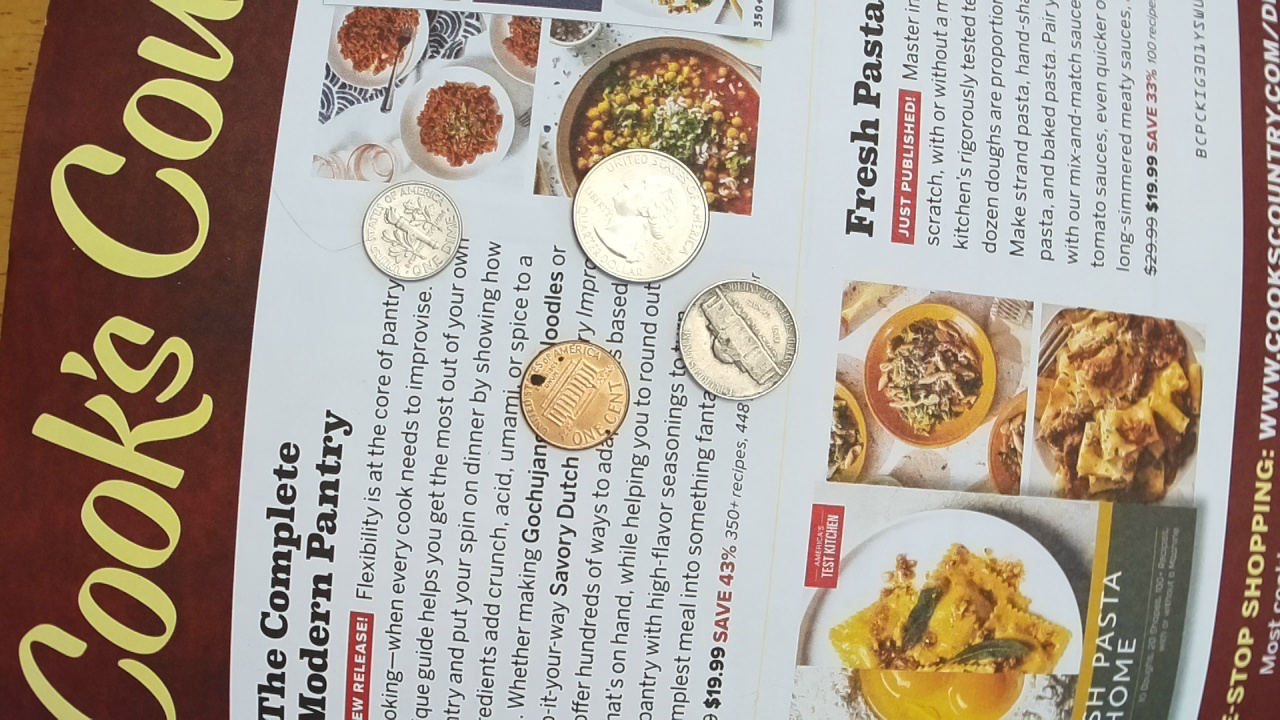dime: (358, 178, 464, 284)
nickel: (674, 278, 800, 402)
penny: (516, 338, 632, 452)
quarter: (570, 140, 706, 286)
